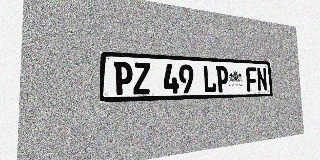4: (163, 64, 179, 94)
9: (179, 64, 194, 93)
F: (246, 67, 257, 92)
L: (203, 65, 216, 93)
N: (256, 67, 267, 91)
P: (114, 61, 133, 95), (216, 66, 229, 92)
Z: (133, 62, 151, 94)
